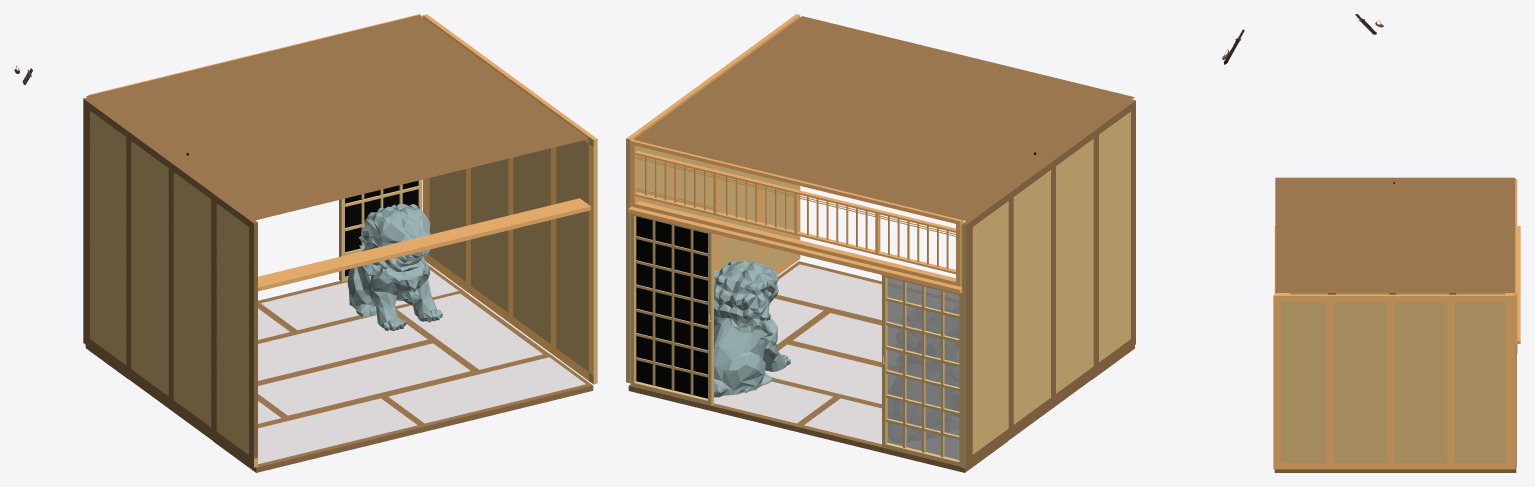
File: room.fbx
The picture shows the model from 3 angles, left to right: view 1: azimuth 30°, elevation 25°; view 2: azimuth 150°, elevation 25°; view 3: azimuth 270°, elevation 25°; orthographic projection. The views are drawn at different scales.
Parts seen in each view (by area): view 1: Plane, Cube.011, Cube.010, Cube.001, Cube.006, SM_Prop_Statue_Lion_01.001, Cube, Cube.007, Cube.004, Group_145_1, Cube.003, Group_07.001 (+3 smaller); view 2: Plane, Cube.011, Group_02.001, Cube.010, Group_07.001, Group_08.001, SM_Prop_Statue_Lion_01.001, Cube.003, Cube.007, Cube.001, Cube.002, Group_05_2 (+6 smaller); view 3: Cube.010, Plane, Group_145.001, Group_02.001, Cube.004, Cube.011.
Boxes of the visible parts, x1,y1,x2,y2 form: Plane: [86, 15, 588, 220]; Cube.011: [83, 97, 257, 467]; Cube.010: [423, 14, 597, 384]; Cube.001: [383, 354, 593, 431]; Cube.006: [258, 341, 477, 418]; SM_Prop_Statue_Lion_01.001: [347, 204, 442, 330]; Cube: [213, 395, 424, 472]; Cube.007: [258, 313, 434, 383]; Cube.004: [396, 291, 549, 371]; Group_145_1: [257, 198, 590, 291]; Cube.003: [258, 266, 464, 333]; Group_07.001: [345, 181, 418, 276]; Plane: [633, 16, 1134, 220]; Cube.011: [961, 99, 1135, 468]; Group_02.001: [630, 138, 963, 286]; Cube.010: [626, 14, 800, 383]; Group_07.001: [636, 216, 707, 398]; Group_08.001: [887, 278, 959, 459]; SM_Prop_Statue_Lion_01.001: [714, 260, 790, 397]; Cube.003: [628, 379, 839, 431]; Cube.007: [765, 341, 881, 405]; Cube.001: [775, 261, 881, 323]; Cube.002: [797, 395, 1007, 472]; Group_05_2: [886, 281, 959, 457]; Cube.010: [1273, 294, 1514, 469]; Plane: [1275, 177, 1515, 292]; Group_145.001: [1505, 226, 1520, 343]; Group_02.001: [1512, 179, 1517, 340]; Cube.004: [1336, 469, 1454, 472]; Cube.011: [1290, 179, 1517, 353].
Bounding box in the file's own units: 884 × 673 × 526.
